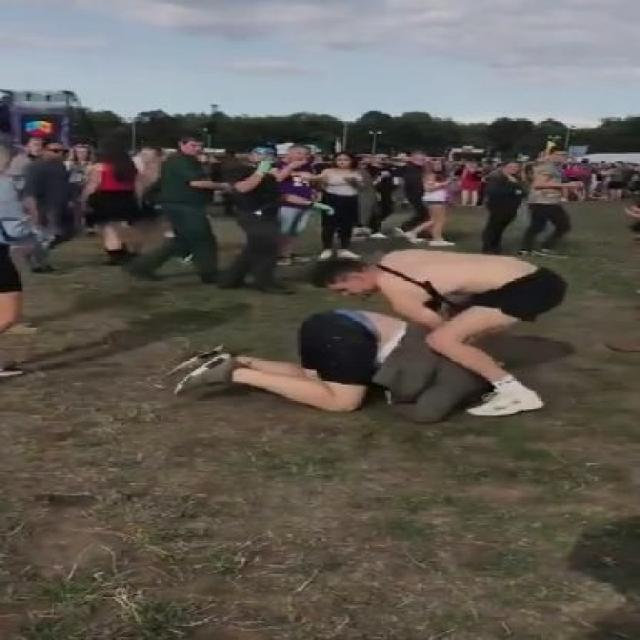fight: (181, 216, 577, 464)
